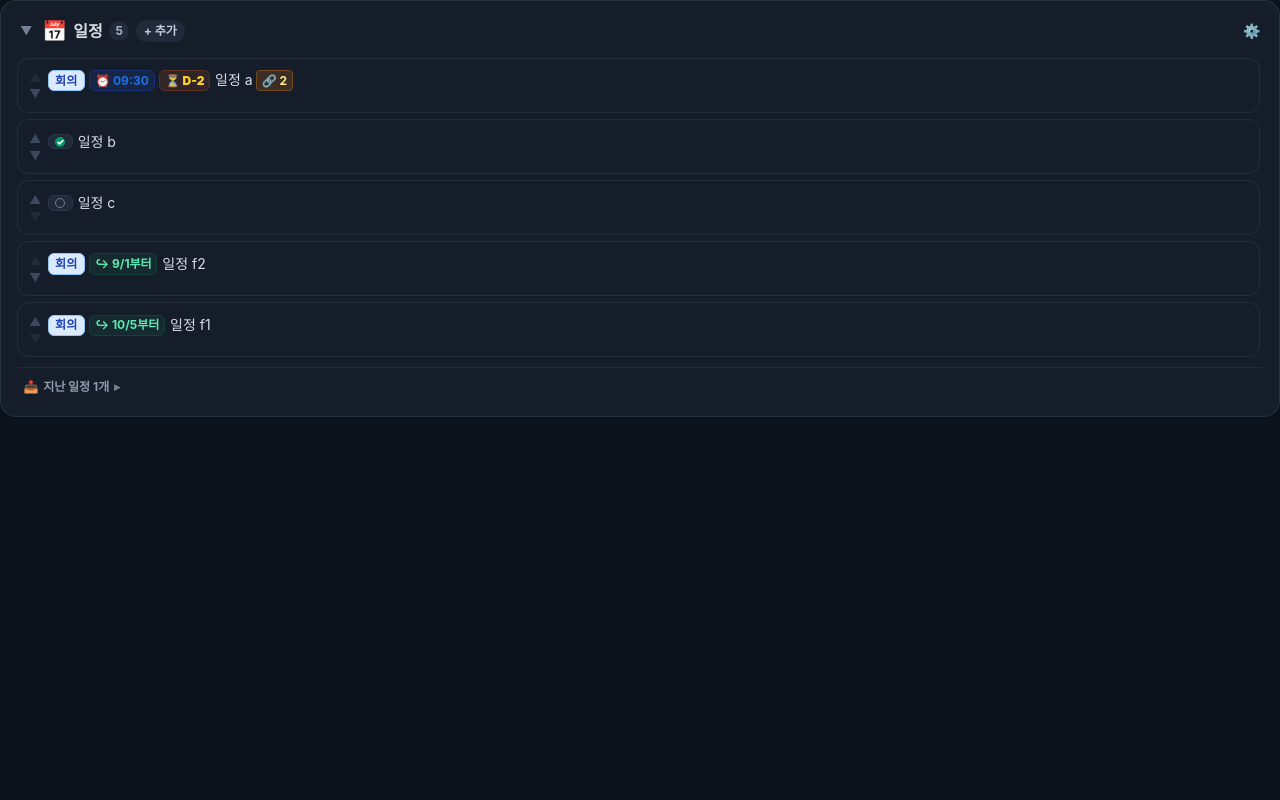
Scenario: 이월 (계산 - DESIGN 5-1) › 골라 오늘로 가져오기 = date·order만 (한 묶음), 안내의 되돌리기
What coordinates should you click on to do the following:
click the button "📥 지난 일정 1개 ▸"
I would click on:
 (68, 386)
Its box is [17,374,1263,400].
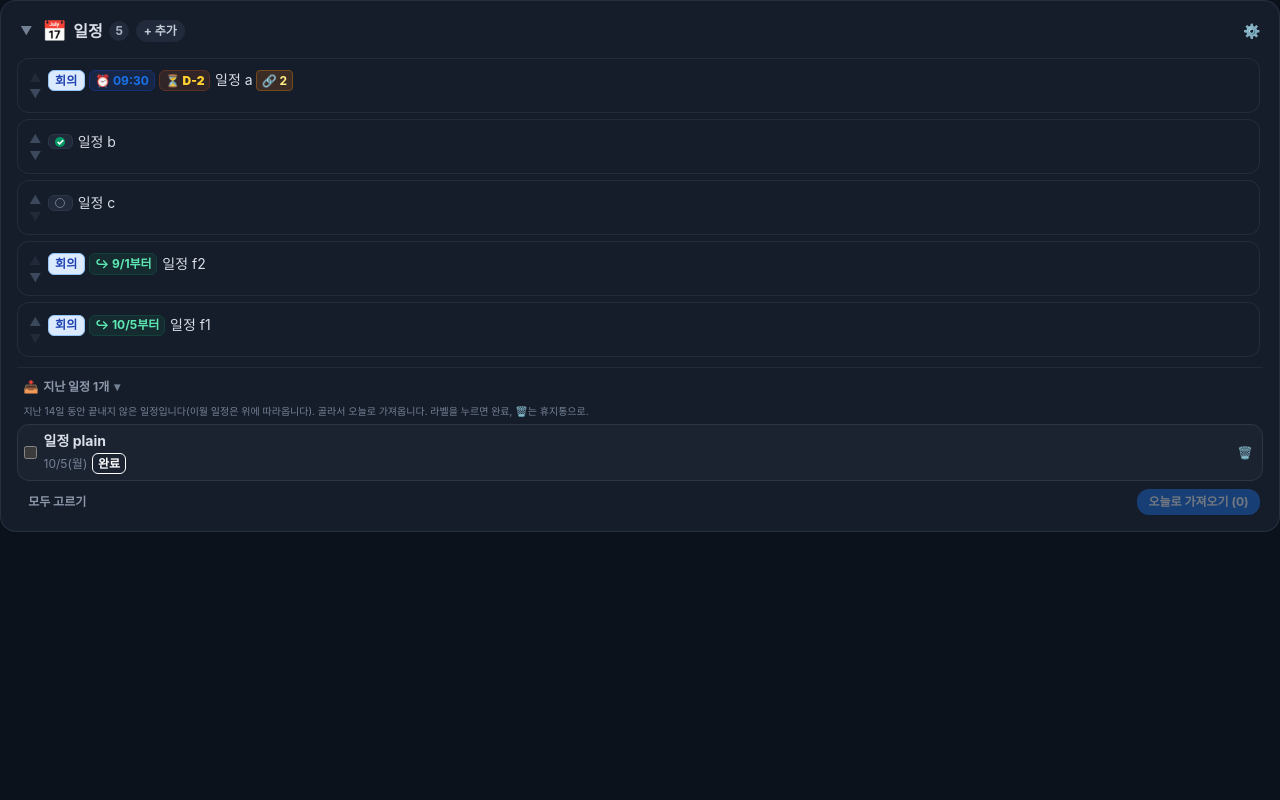
What coordinates should you click on to do the following:
click the checkbox named "오늘로 가져올 일정 고르기"
I would click on:
 (31, 453)
Its box is [24,446,37,459].
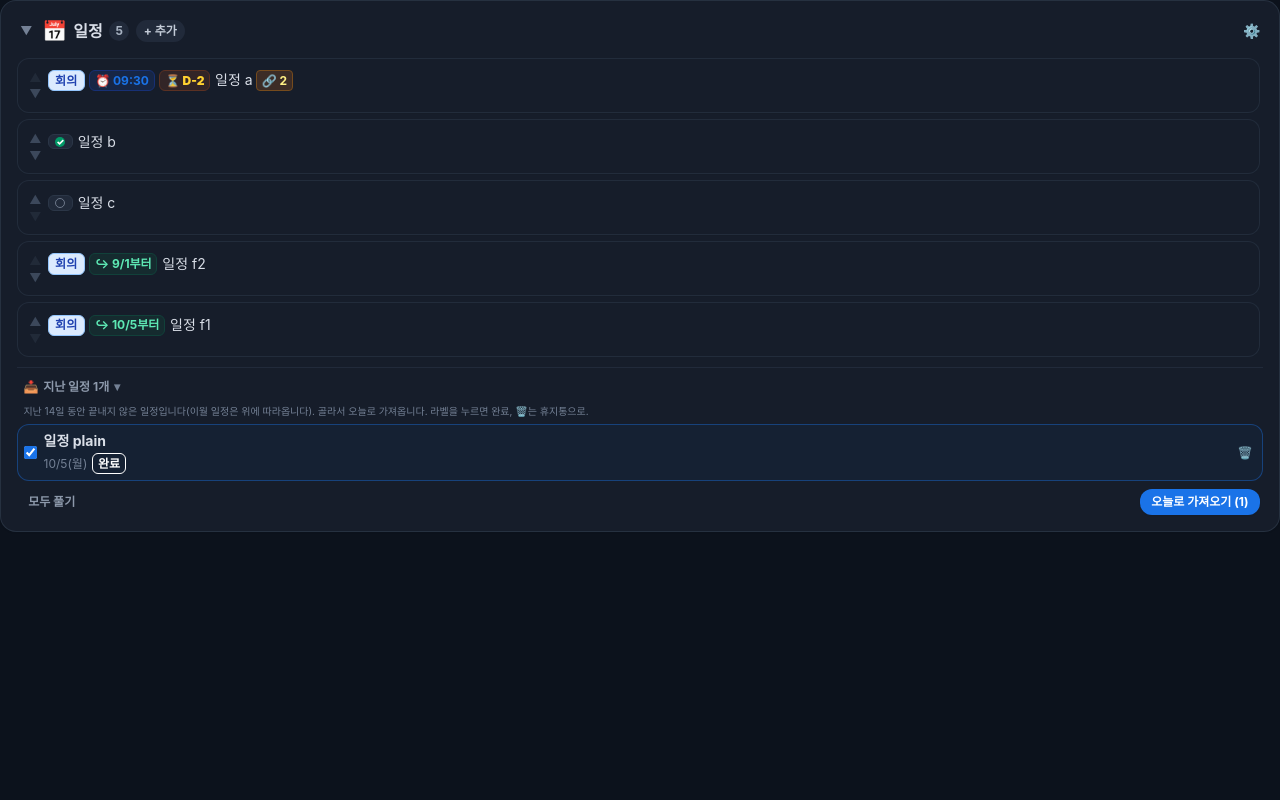
Now the button "오늘로 가져오기 (1)" is shown
What coordinates should you click on to do the following:
click the button "오늘로 가져오기 (1)"
I would click on:
 (1200, 502)
Its box is [1140,490,1260,515].
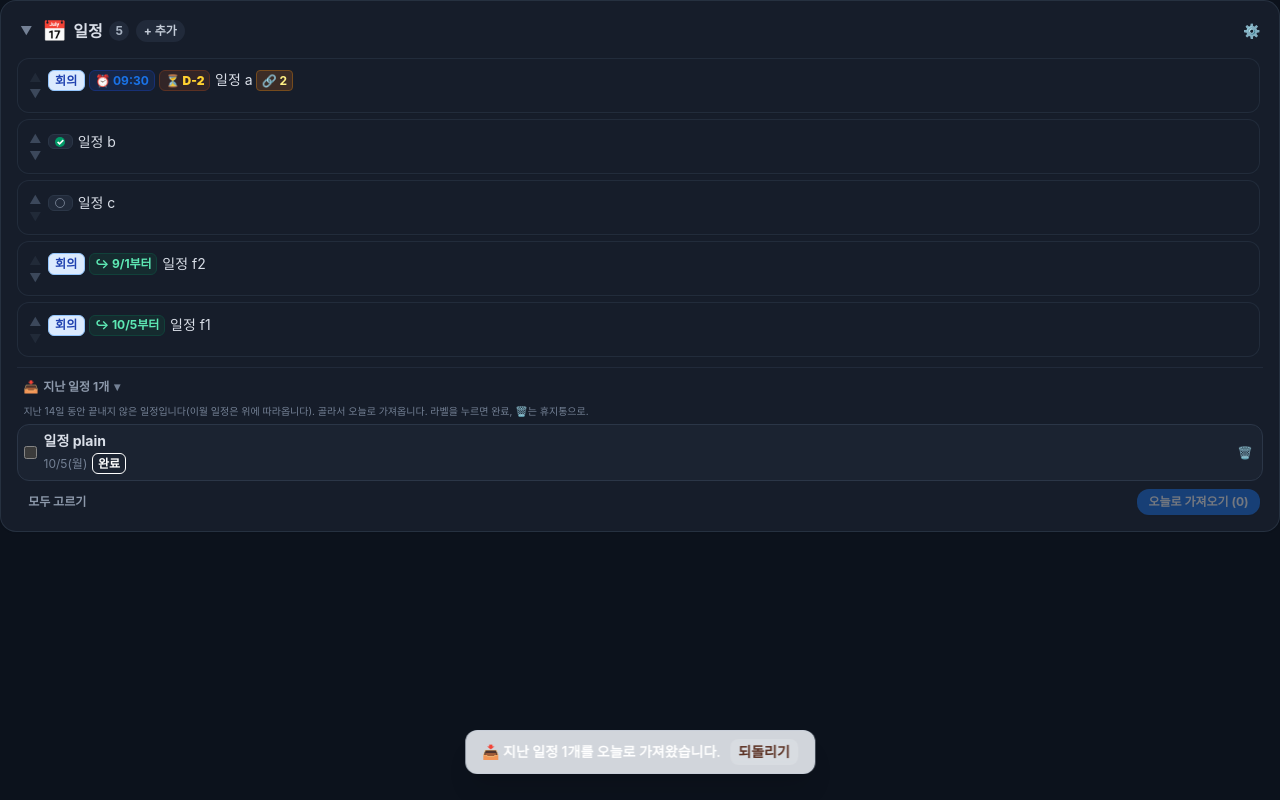
Now the message "📥 지난 일정 1개를 오늘로 가져왔습니다. 되돌리기" is shown, box [465,730,815,774]
Now the button "되돌리기" is shown, box [730,739,798,765]
